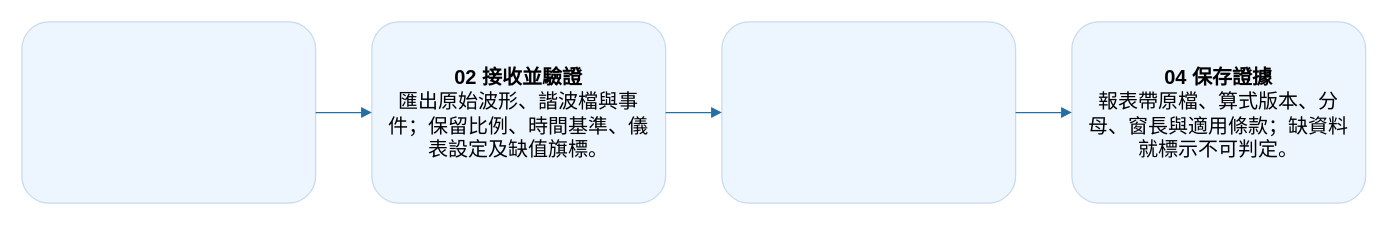
The diagram is 1388 pixels wide and 225 high, and some of its shapes have lost their labels. Each missing label, with the box of its shape:
01 選定量測點 公用電網共同耦合點（PCC）、負載端或配電分盤；記錄相序與額定電壓。: (21, 21, 316, 203)
03 分流計算 穩態窗算 PF、諧波與相序；事件窗另算暫降、暫升及持續時間。: (721, 21, 1016, 203)
